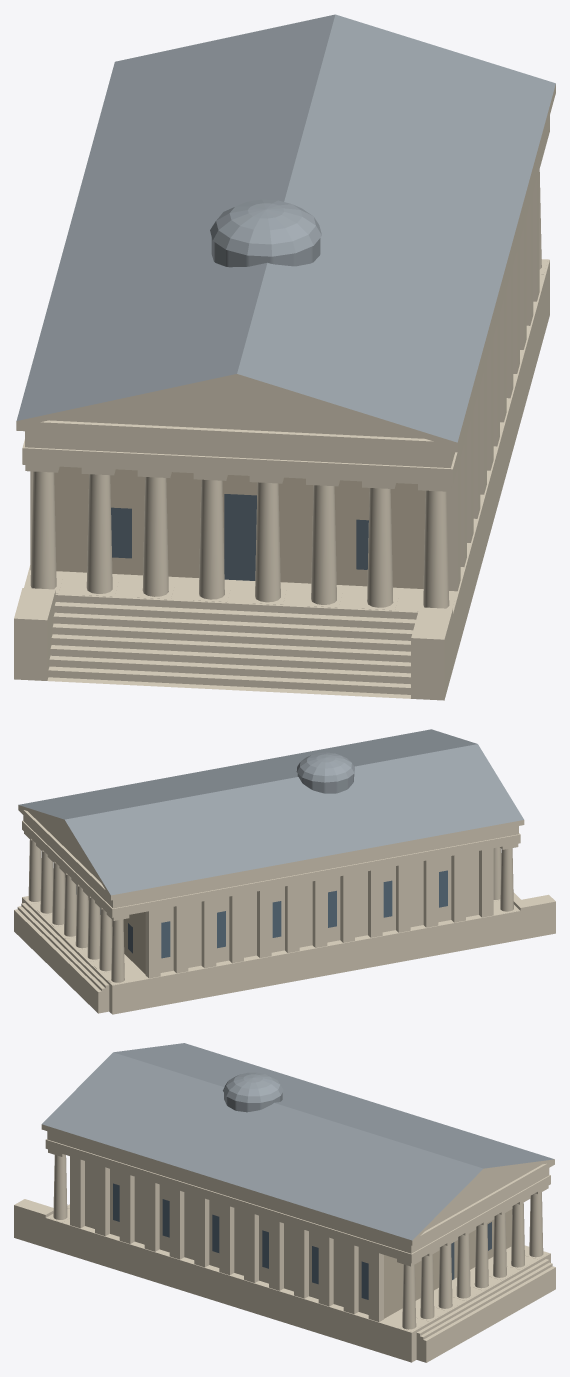
The picture shows the model from 3 angles, top to bottom: view 1: azimuth 30°, elevation 25°; view 2: azimuth 150°, elevation 25°; view 3: azimuth 270°, elevation 25°; orthographic projection. The views are drawn at different scales.
Visible parts, largest first — view 1: federal-hall-national-memorial; view 2: federal-hall-national-memorial; view 3: federal-hall-national-memorial.
Part boxes in pixels (<box>): federal-hall-national-memorial: <box>14,14,555,700</box>; federal-hall-national-memorial: <box>14,729,555,1014</box>; federal-hall-national-memorial: <box>14,1043,555,1362</box>.
Size of the model in its own units: 59.18 by 23 by 65.87.
